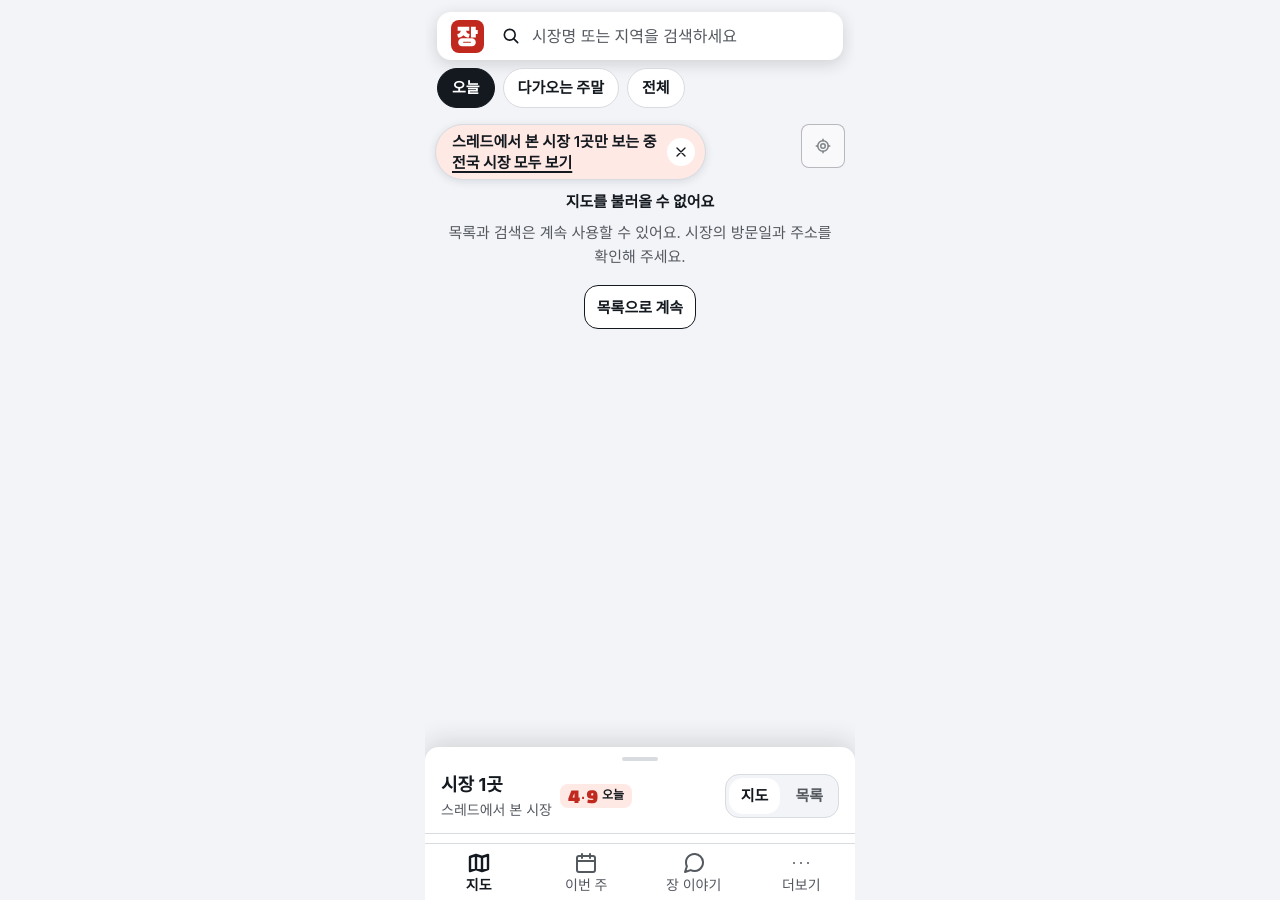
Scenario: MarketExplorer › market set links from Threads › searches every market once the visitor types a query
Expected: the button "스레드에서 본 시장 1곳만 보는 중 전국 시장 모두 보기" is shown, 435,124 -> 706,180
Click the button with aria-label "시장명 또는 지역 검색": (668, 36) 493,14 -> 843,58
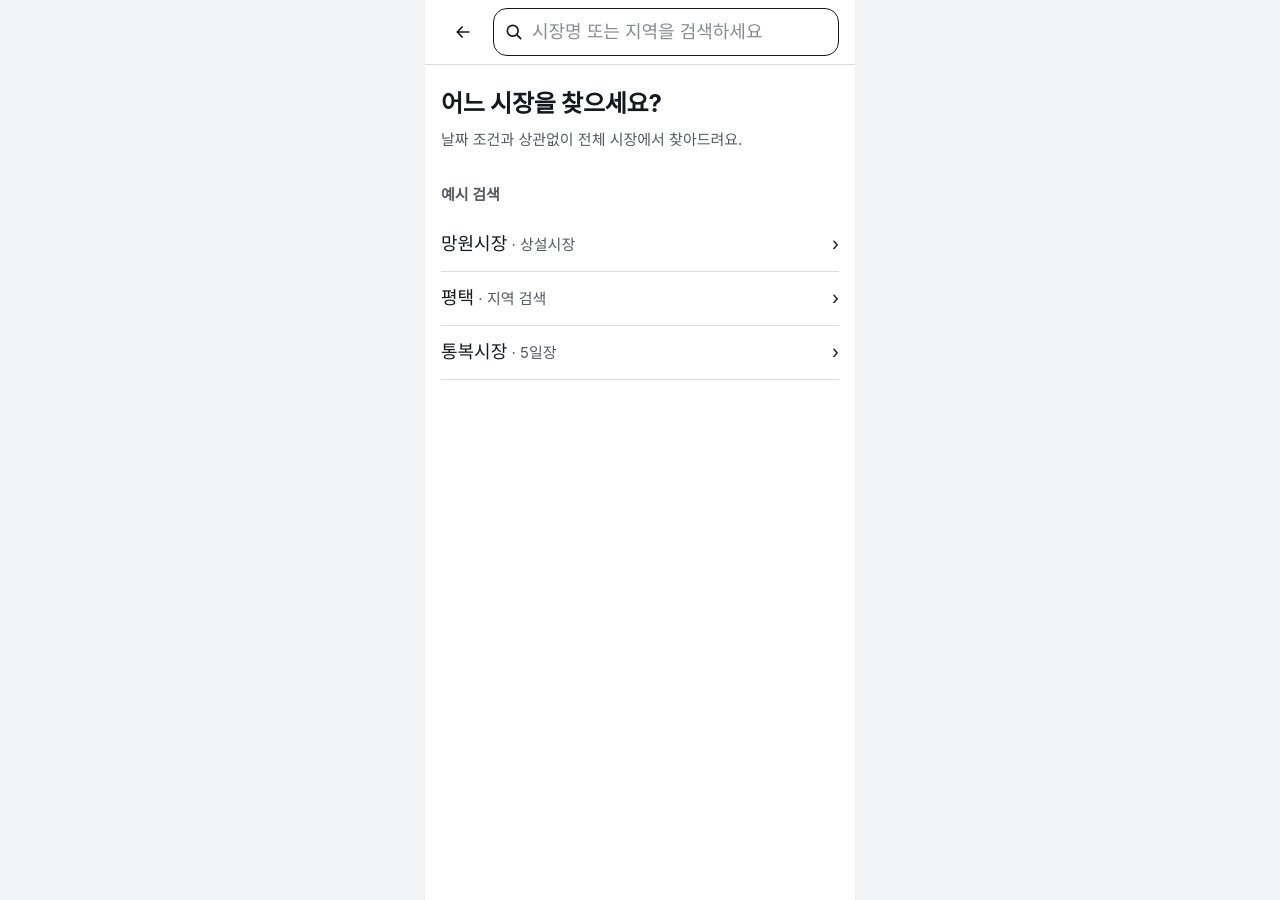
In the search field: (680, 32) 532,18 -> 828,46, type "운천"
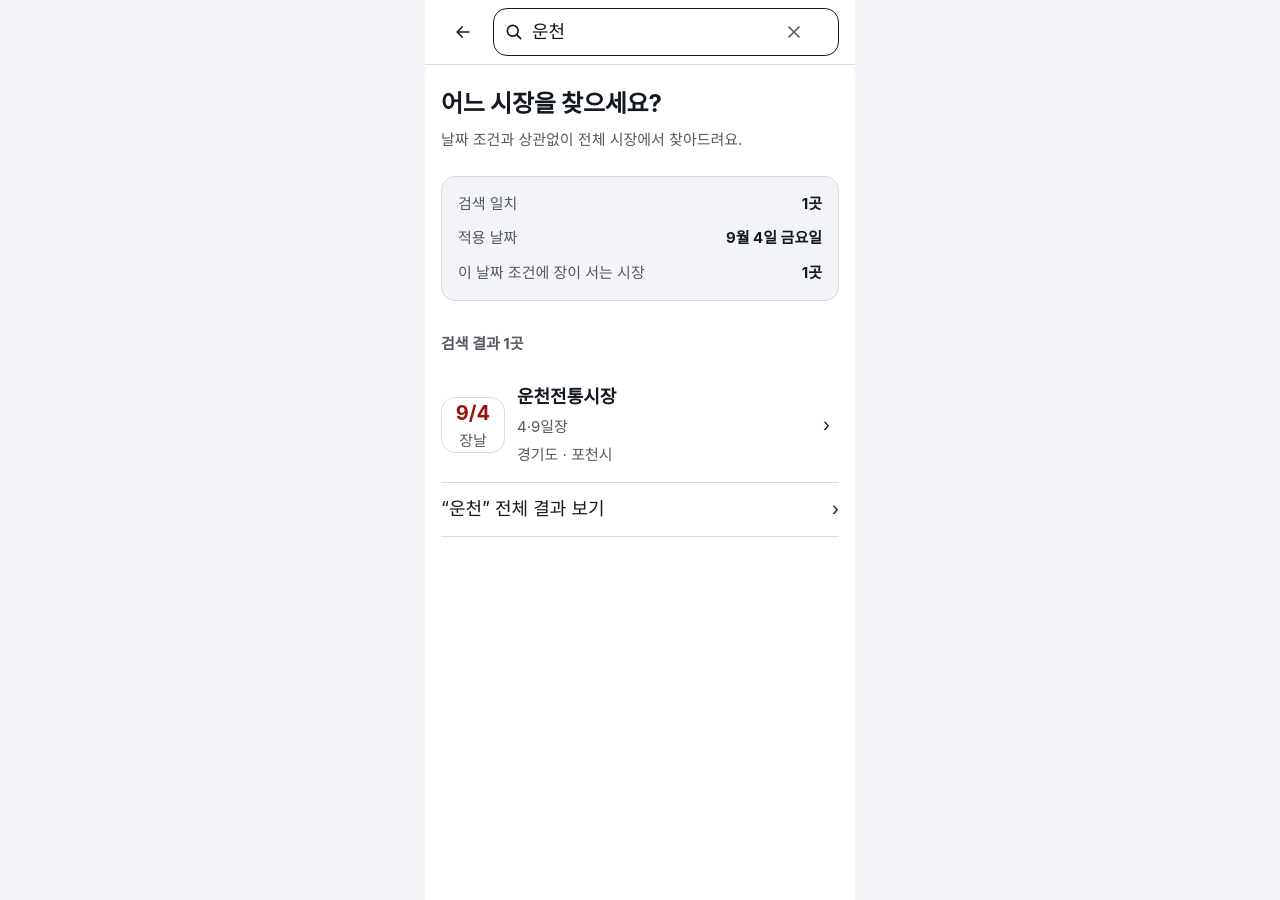
Result: the button "9/4 장날 운천전통시장 4·9일장 경기도 · 포천시 ›" is shown at 441,367 -> 839,483
